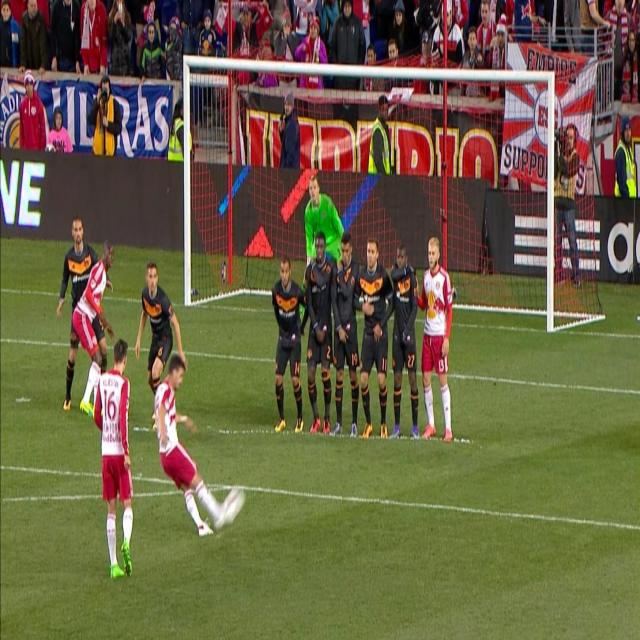free-kick: (267, 230, 421, 444)
